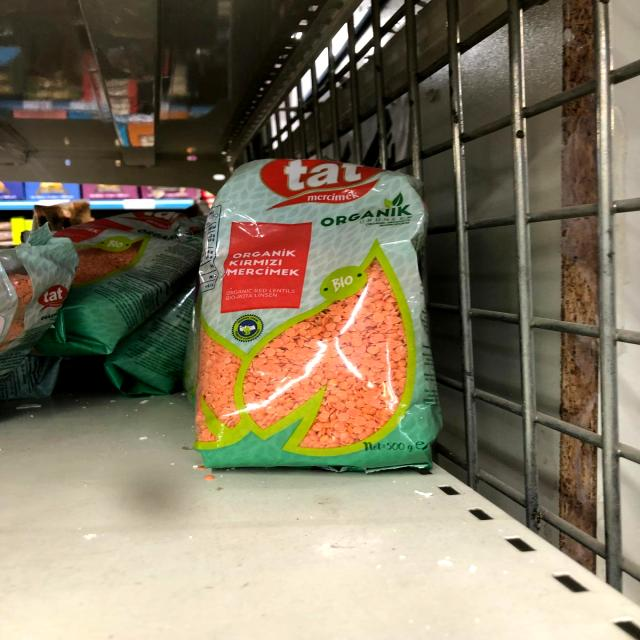red lentils: (191, 167, 460, 476)
